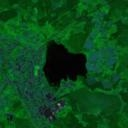alloviz: (42, 39, 88, 89)
